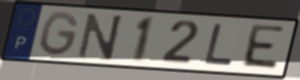1: (133, 14, 160, 65)
2: (159, 19, 202, 67)
E: (238, 23, 288, 73)
G: (38, 9, 81, 58)
L: (203, 22, 237, 66)
N: (76, 12, 126, 61)
